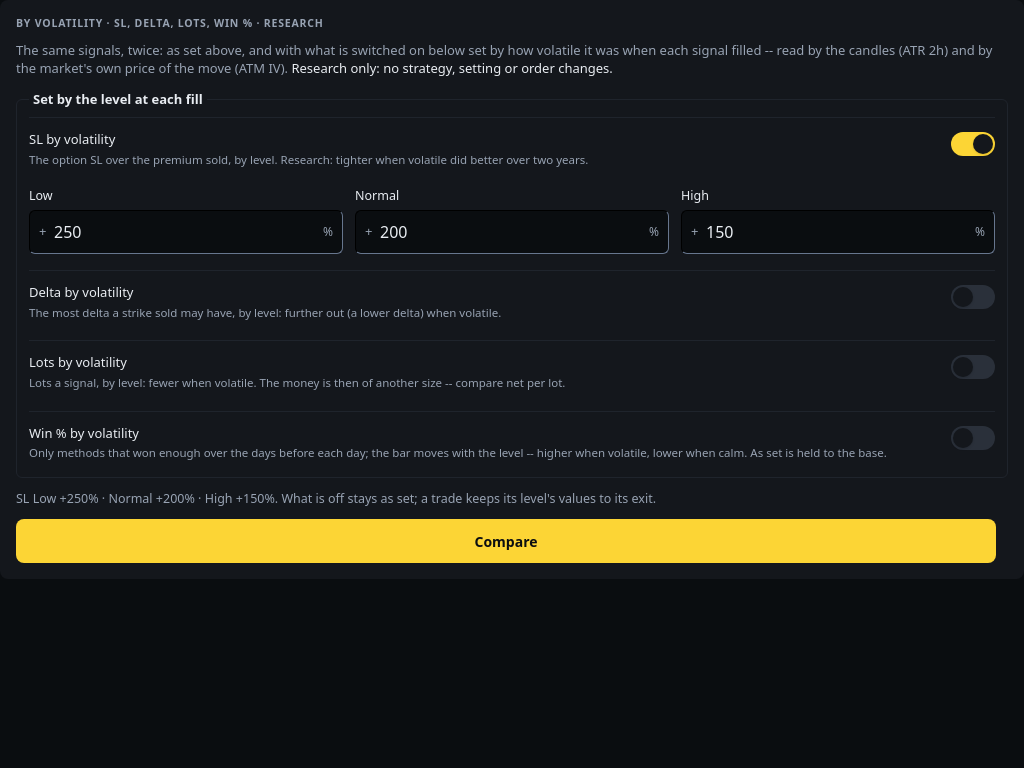
Test: VolStudy › [critical] a value out of range, none switched on, or none typed is said in words and Compare waits
Step 1. Replace the text in the number field named "Option SL in low volatility, per cent over the premium" with "2000" → (186, 232), box 29,210 -> 343,254
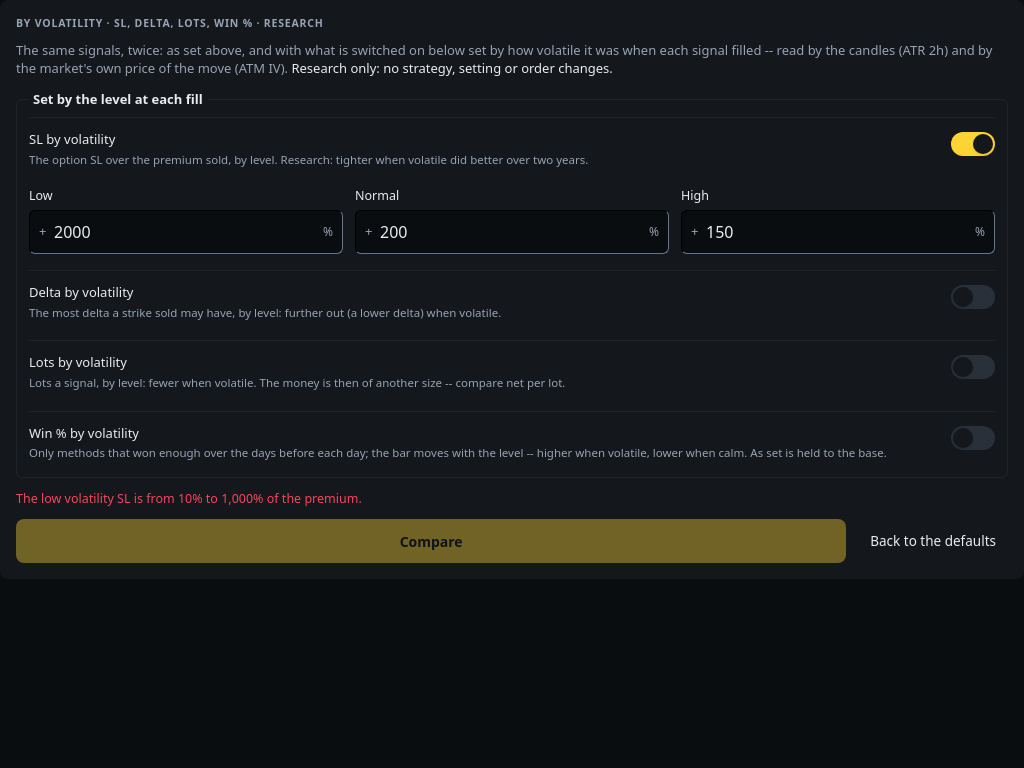
Check: the message reads "The low volatility SL is from 10% to 1,000% of the premium.", box 16,490 -> 362,507
Check: the button "Compare" is disabled, box 16,519 -> 846,563
